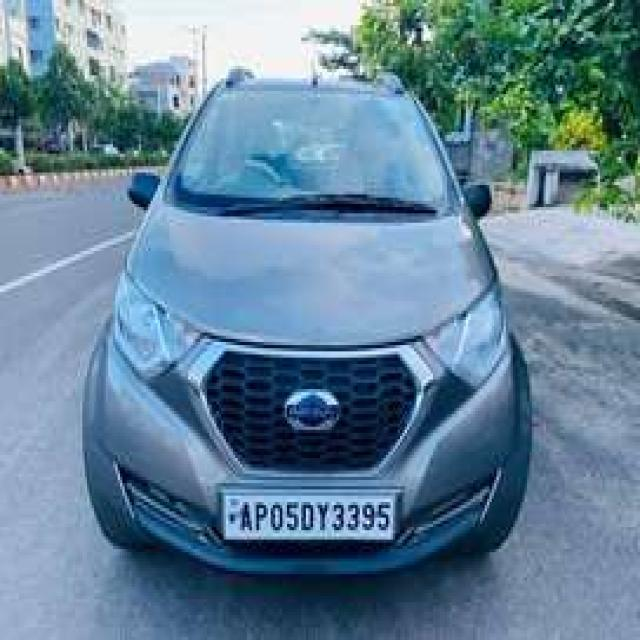plate: (220, 489, 400, 544)
